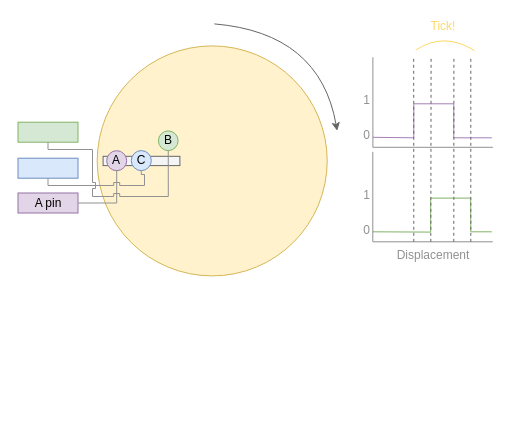
The diagram is 512 pixels wide and 441 high, and some of its shapes have lost their labels. Each missing label, with the box of its shape:
B pin: (17, 121, 78, 142)
Ground: (17, 157, 78, 178)
